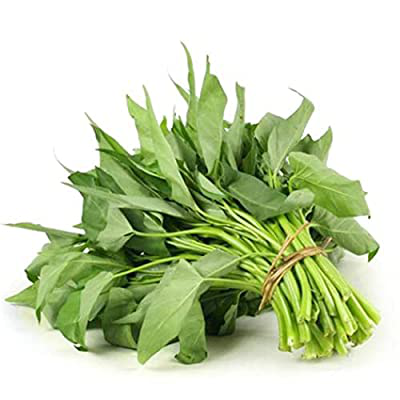Kangkung: (19, 36, 380, 385)
